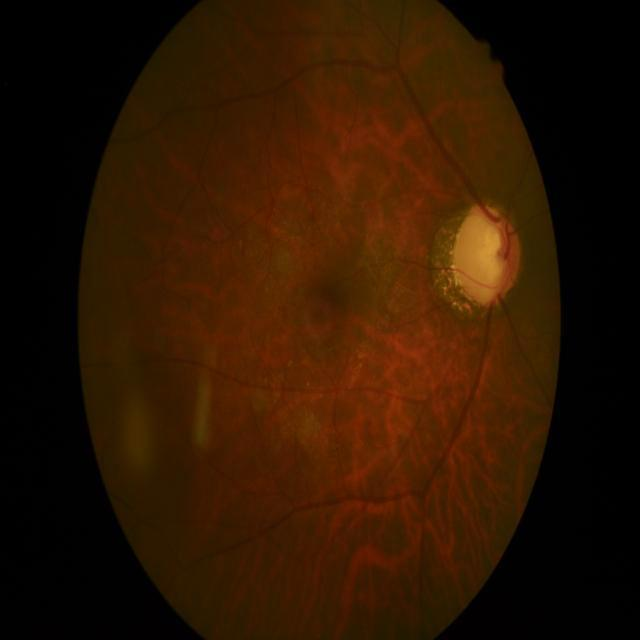cup: (459, 216, 512, 300)
disk: (455, 205, 521, 306)
